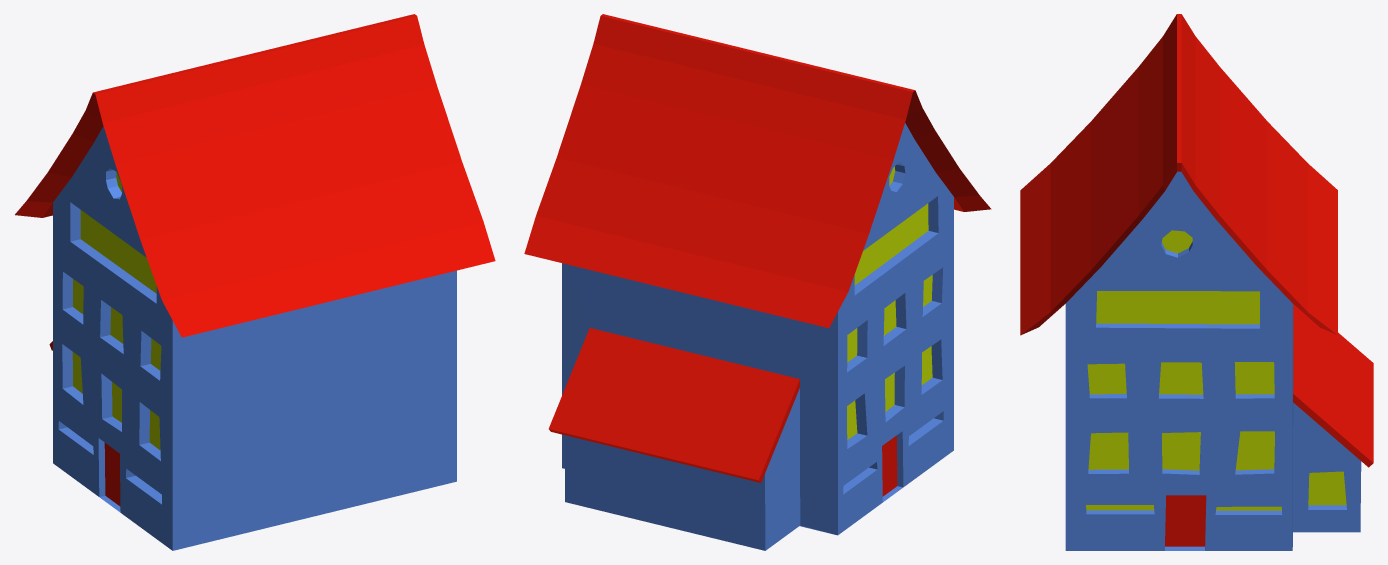
The model's file is Building7.fbx.
3 renders of one model, left to right at view 1: azimuth 30°, elevation 25°; view 2: azimuth 150°, elevation 25°; view 3: azimuth 270°, elevation 25°, orthographic. The views are drawn at different scales.
Parts seen in each view (by area): view 1: Plane; view 2: Plane; view 3: Plane.
Boxes of the visible parts, left/top/right/bottom form: Plane: left=15, top=14, right=495, bottom=550; Plane: left=524, top=14, right=991, bottom=550; Plane: left=1020, top=14, right=1373, bottom=550.
Size of the model in its own units: 129 by 161 by 129.
